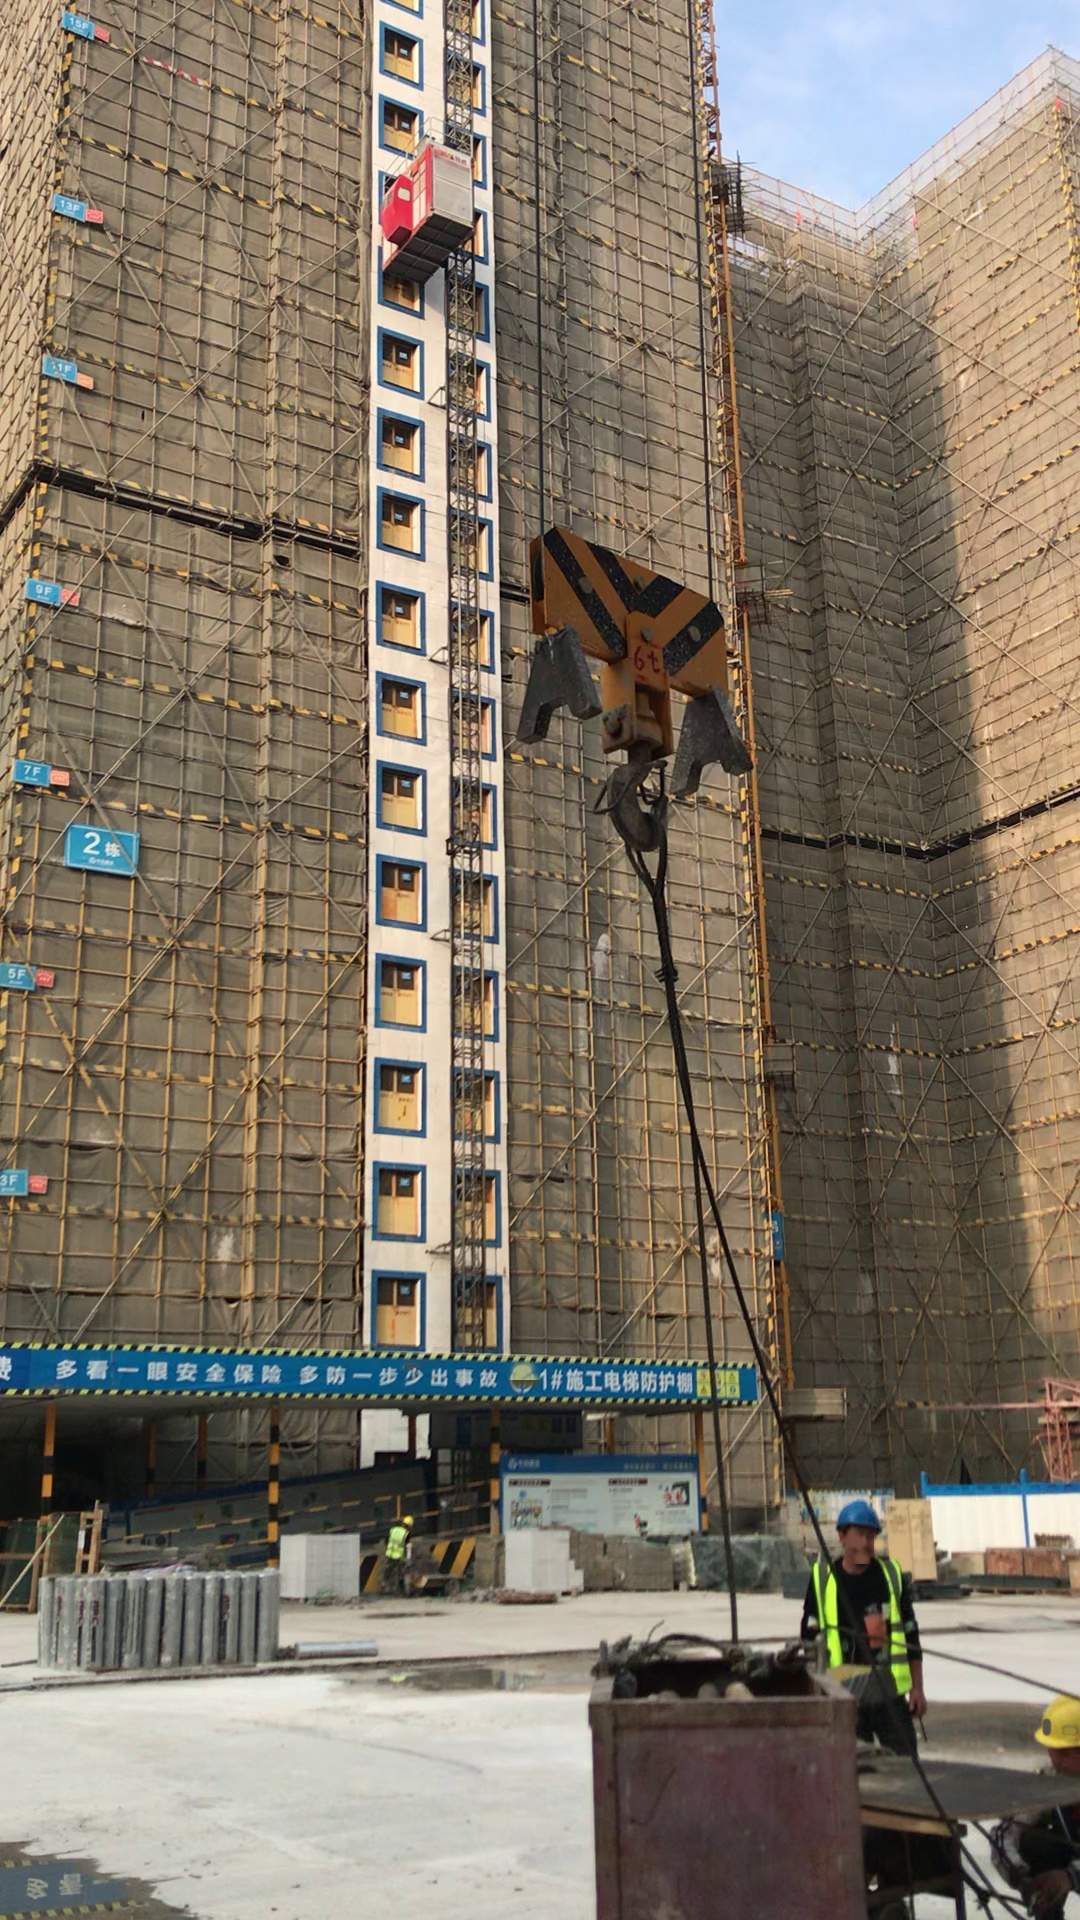brick: (282, 1534, 362, 1601), (504, 1528, 584, 1595)
helmet: (1036, 1695, 1080, 1748), (838, 1502, 885, 1530), (403, 1515, 413, 1528)
hook: (522, 515, 761, 853)
person: (797, 1502, 926, 1755), (988, 1690, 1080, 1918), (385, 1511, 414, 1603)
slogan: (1, 1362, 750, 1396)
vest: (812, 1557, 911, 1700), (387, 1527, 408, 1560)
